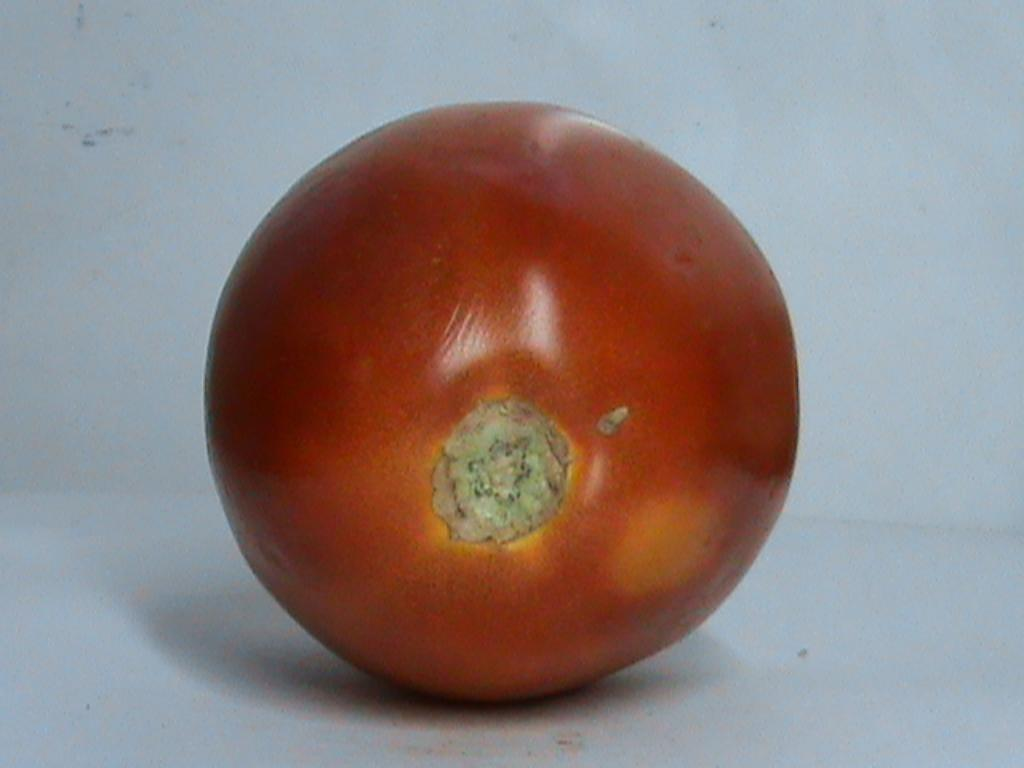bruise_discoloration: (607, 495, 727, 596)
tomato: (206, 102, 797, 699)
